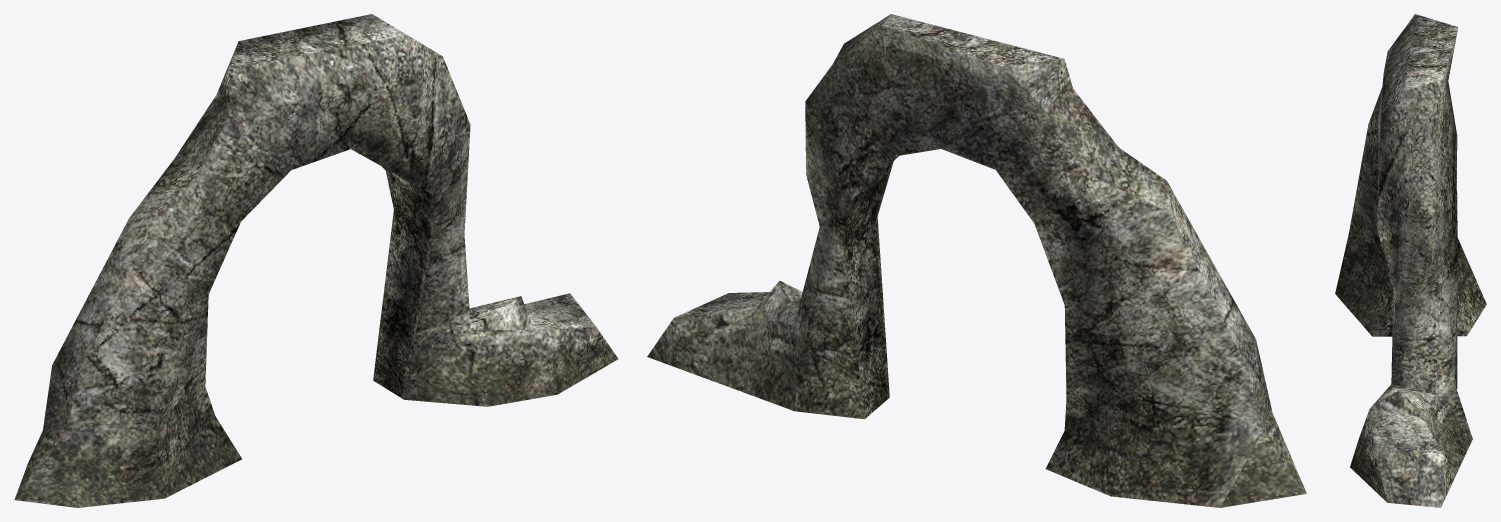
Rendered from general_obj_stone15.fbx.
3 views of the same model, side by side, from view 1: azimuth 30°, elevation 25°; view 2: azimuth 150°, elevation 25°; view 3: azimuth 270°, elevation 25° (orthographic). The views are drawn at different scales.
Parts seen in each view (by area): view 1: Sphere01; view 2: Sphere01; view 3: Sphere01.
Boxes of the visible parts, bbox=[...] form: Sphere01: bbox=[14, 14, 618, 507]; Sphere01: bbox=[647, 14, 1306, 507]; Sphere01: bbox=[1335, 14, 1486, 507].
Bounding box in the file's own units: 12.87 × 7.55 × 3.14.
